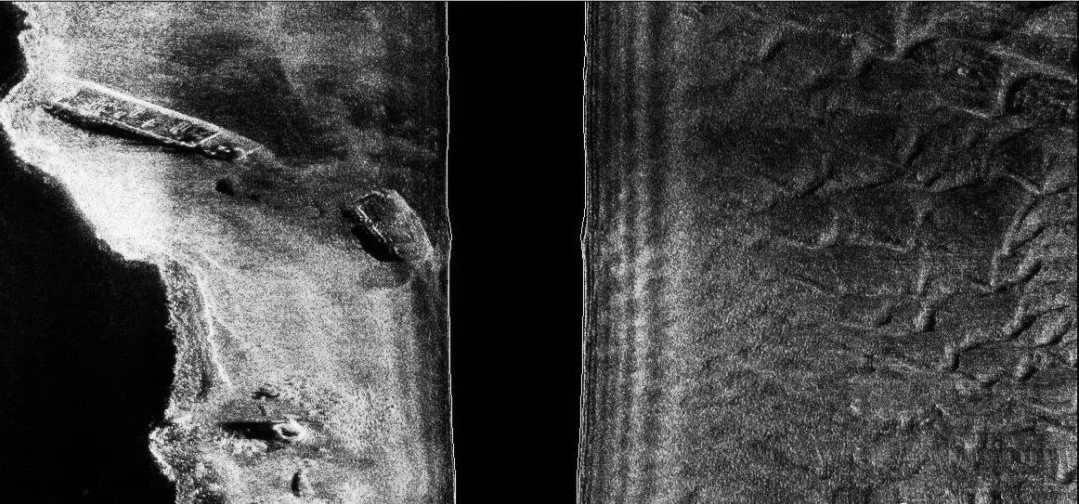ship: (265, 67, 443, 287), (44, 74, 281, 177)
